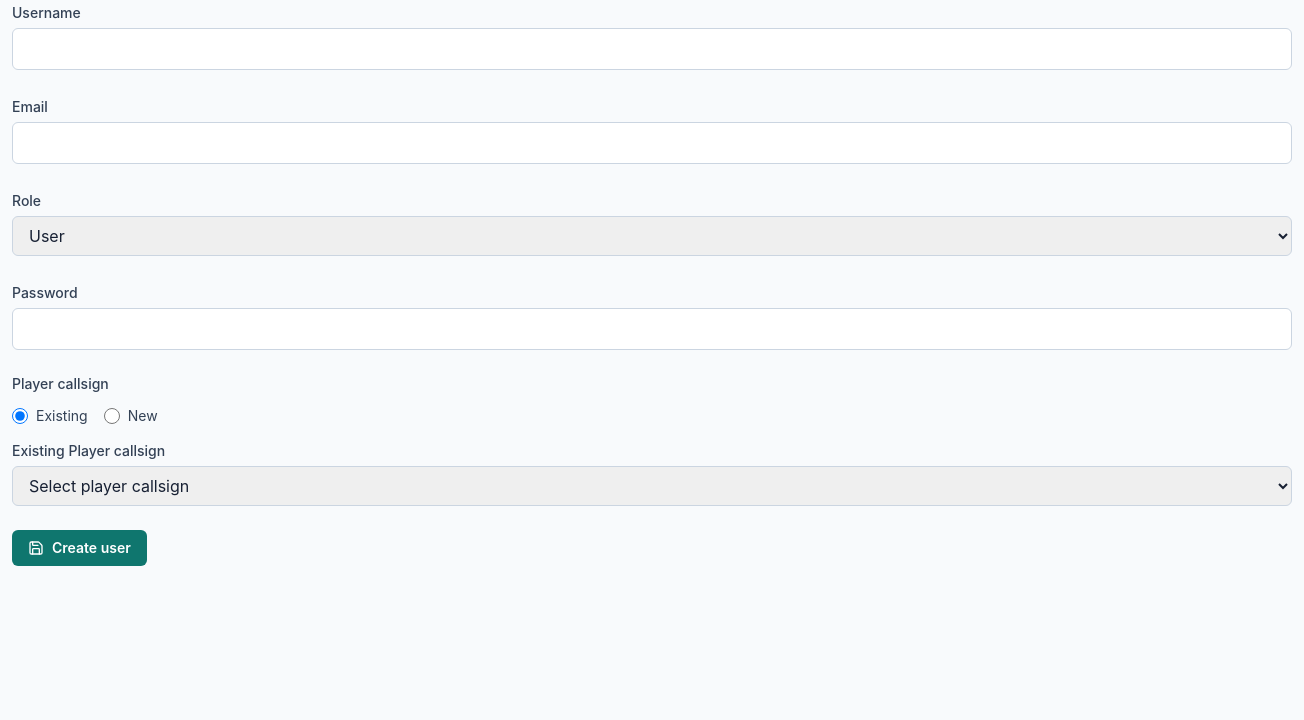
Scenario: UserForm › requires username and player
Click the button "Create user". click: [79, 548]
box: 12,530 -> 147,566
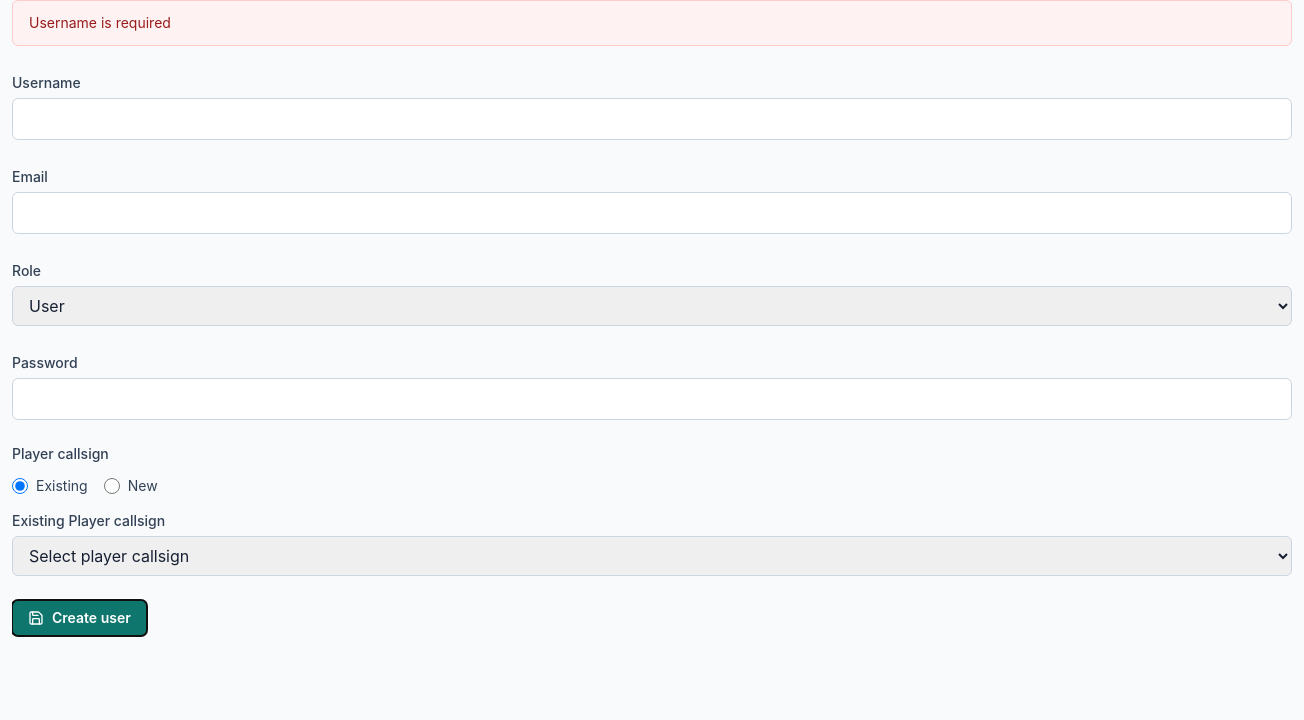
Now the message reads "Username is required", box 29,14 -> 171,31
